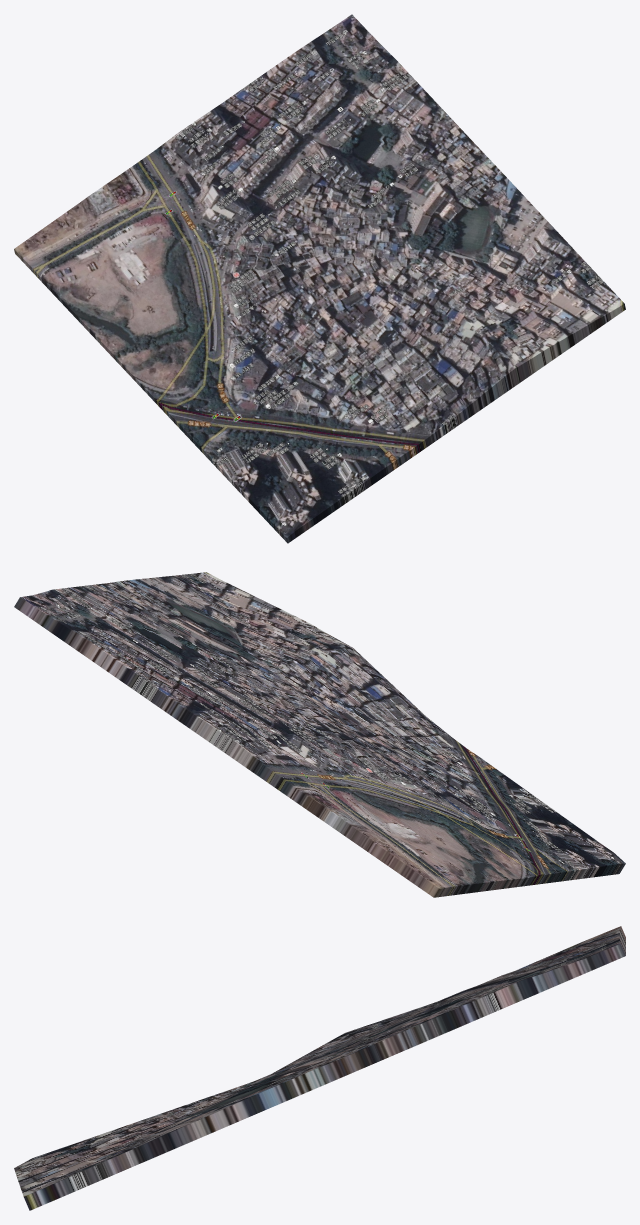
3 views of the same model, one above another, from view 1: azimuth 30°, elevation 25°; view 2: azimuth 150°, elevation 25°; view 3: azimuth 270°, elevation 25° (orthographic). The views are drawn at different scales.
Parts seen in each view (by area): view 1: 0_4_0; view 2: 0_4_0; view 3: 0_4_0.
Boxes of the visible parts, x1,y1,x2,y2 form: 0_4_0: (14,14,625,543); 0_4_0: (14,572,625,897); 0_4_0: (14,926,625,1210).
Size of the model in its own units: 596 by 438 by 556.
Materials: 1 (1 with a texture image).
